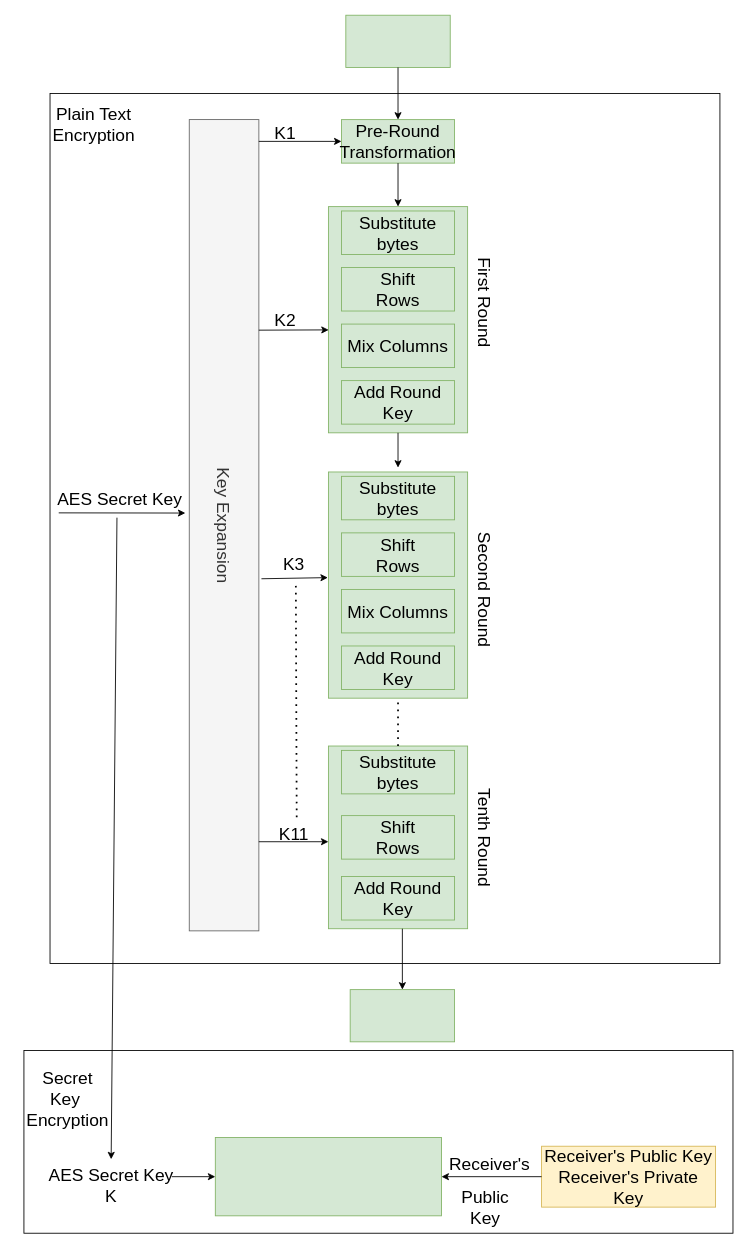
The diagram is 748 pixels wide and 1248 high, and some of its shapes have lost their labels. Each missing label, with the centre of its shape:
"Cipher Text" goes at (x=402, y=1015).
"Encrypted Key, K'= K^ (Receiver's Public Key) mod N" goes at (x=328, y=1176).
"Plain Text" goes at (x=397, y=40).
